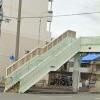stairs: (4, 80, 23, 94)
